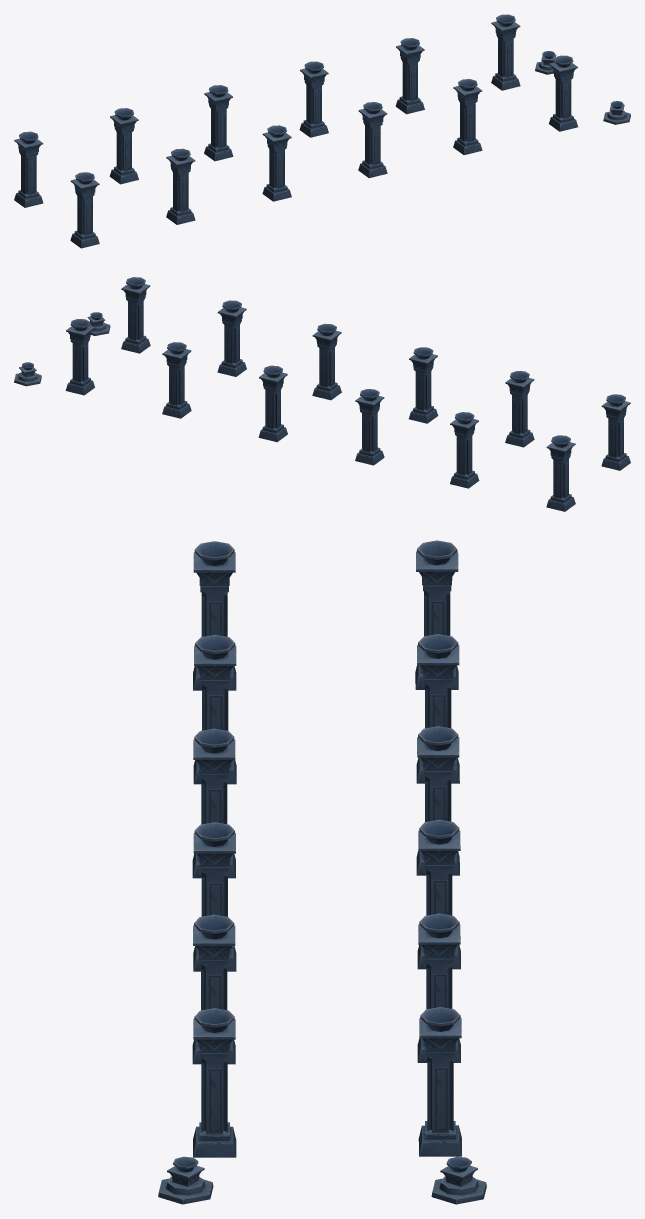
The model's file is wujian41.fbx.
3 renders of one model, top to bottom at view 1: azimuth 30°, elevation 25°; view 2: azimuth 150°, elevation 25°; view 3: azimuth 270°, elevation 25°, orthographic. The views are drawn at different scales.
Parts seen in each view (by area): view 1: wujian41; view 2: wujian41; view 3: wujian41.
Part boxes in pixels (x1,y1,x2,y2): wujian41: [14, 14, 630, 248]; wujian41: [14, 277, 630, 511]; wujian41: [158, 540, 486, 1204].
Size of the model in its own units: 4512 by 519 by 1172.
1 material, 1 textured.
